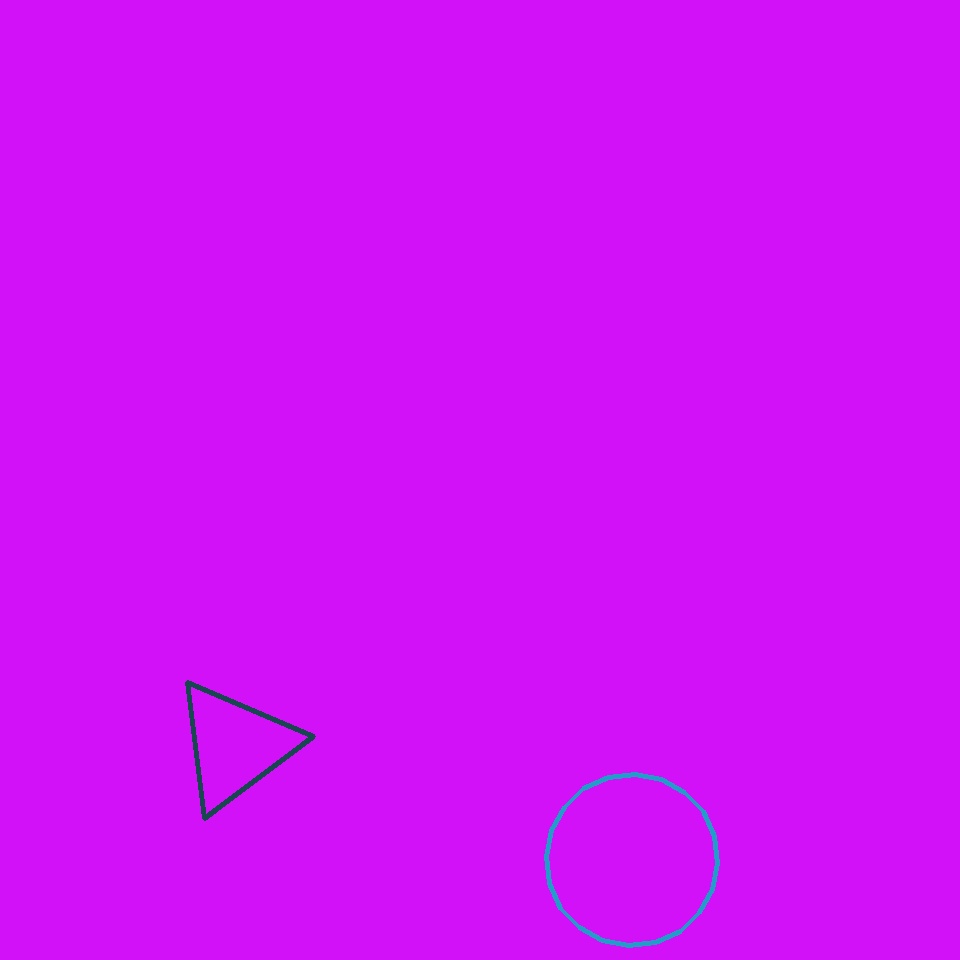circle: (172, 678, 298, 814)
triangle: (546, 774, 718, 946)
